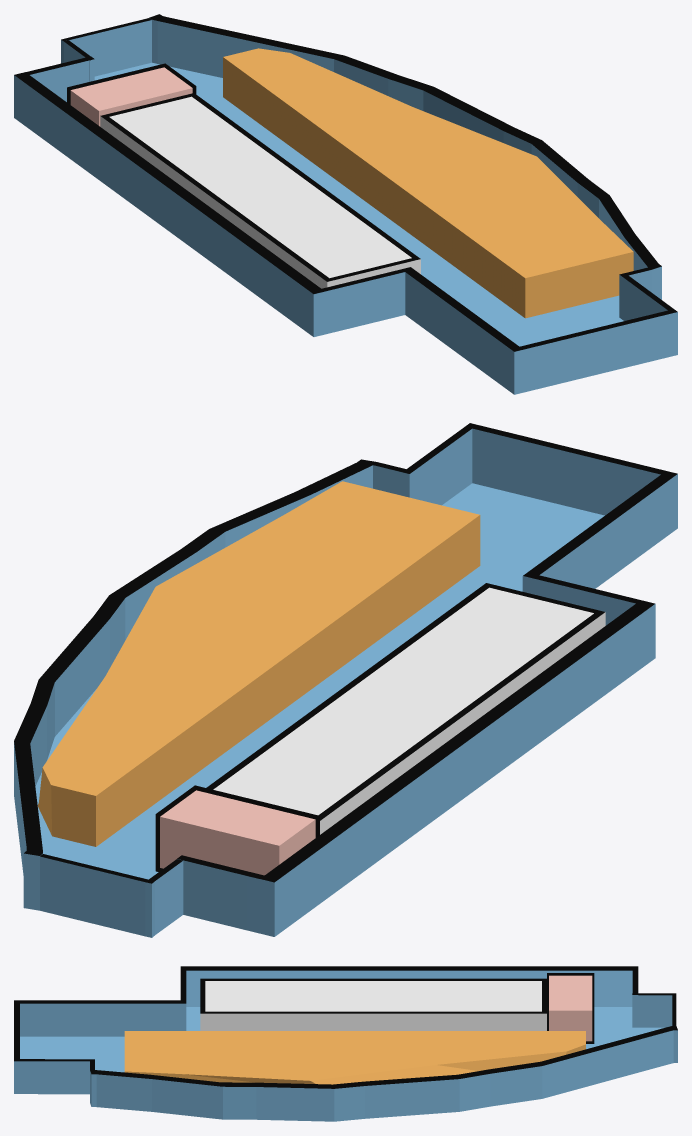
3 renders of one model, top to bottom at view 1: azimuth 30°, elevation 25°; view 2: azimuth 150°, elevation 25°; view 3: azimuth 270°, elevation 25°, orthographic. The views are drawn at different scales.
Parts seen in each view (by area): view 1: object, 食堂_G_1_1, トイレ_G_1_1, object_line; view 2: object, 食堂_G_1_1, トイレ_G_1_1, object_line; view 3: object, 食堂_G_1_1, トイレ_G_1_1, object_line.
Boxes of the visible parts, bbox=[...] form: object: bbox=[14, 14, 677, 394]; 食堂_G_1_1: bbox=[223, 48, 633, 318]; トイレ_G_1_1: bbox=[70, 67, 192, 126]; object_line: bbox=[67, 63, 196, 104]; object: bbox=[14, 423, 677, 937]; 食堂_G_1_1: bbox=[37, 481, 480, 846]; トイレ_G_1_1: bbox=[160, 790, 315, 875]; object_line: bbox=[155, 785, 319, 871]; object: bbox=[14, 966, 677, 1121]; 食堂_G_1_1: bbox=[124, 1031, 585, 1084]; トイレ_G_1_1: bbox=[549, 975, 592, 1041]; object_line: bbox=[547, 973, 594, 1043].
Bounding box in the file's own units: 1.56 × 0.2109 × 3.58.
